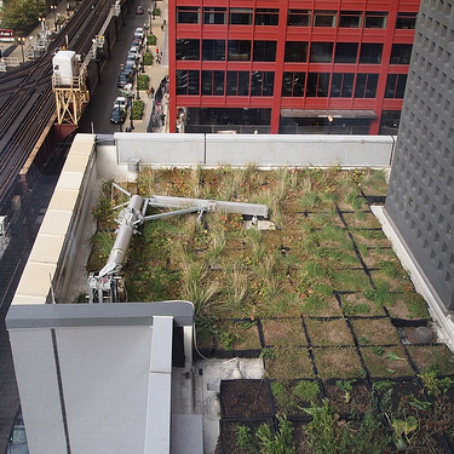building: (169, 1, 414, 134)
train track: (1, 1, 104, 212)
